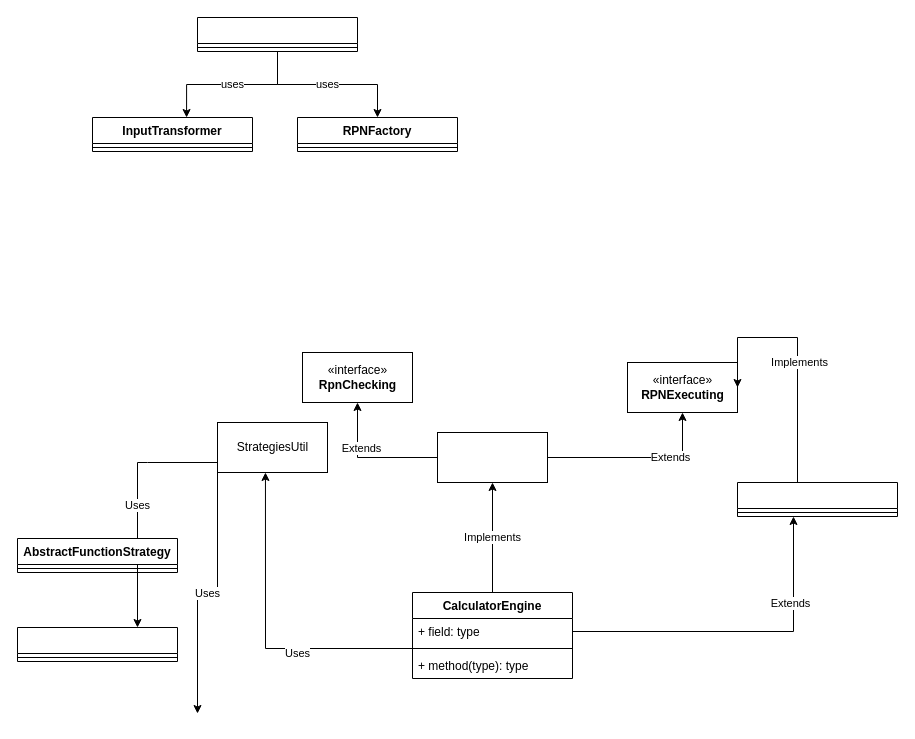
This 915x739 diagram has some shape labels left out. The centre of each missing label's shape, as x and y in pixels:
AbstractOperatorStrategy: pixel 97 644
Calculator: pixel 277 34
RPNExecutioner: pixel 817 499
«interface» CalculationEngine: pixel 492 457
